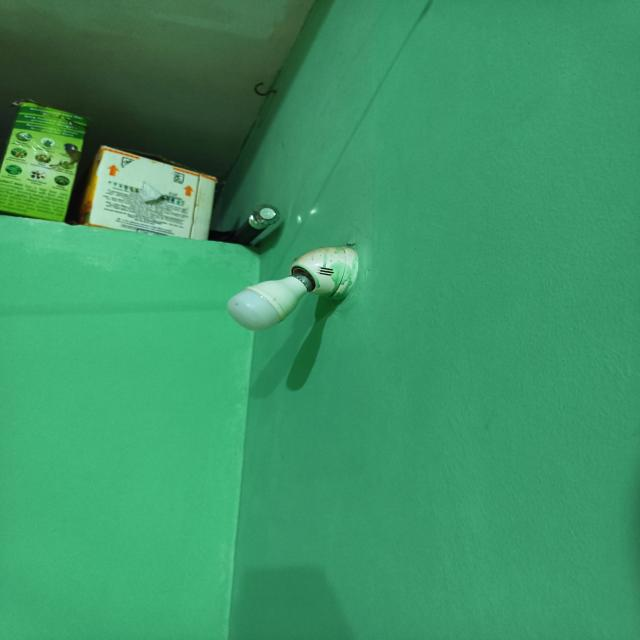bulb_off: (231, 248, 367, 333)
